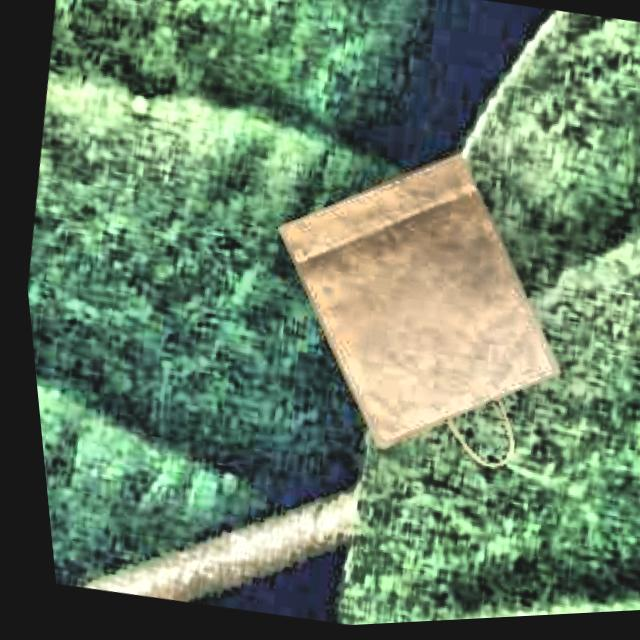Paper-bag: (219, 107, 601, 507)
